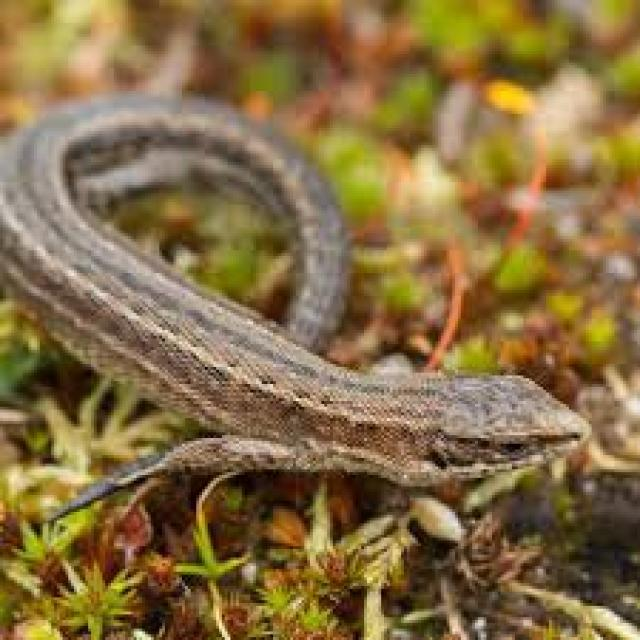Lizard: (0, 95, 591, 503)
